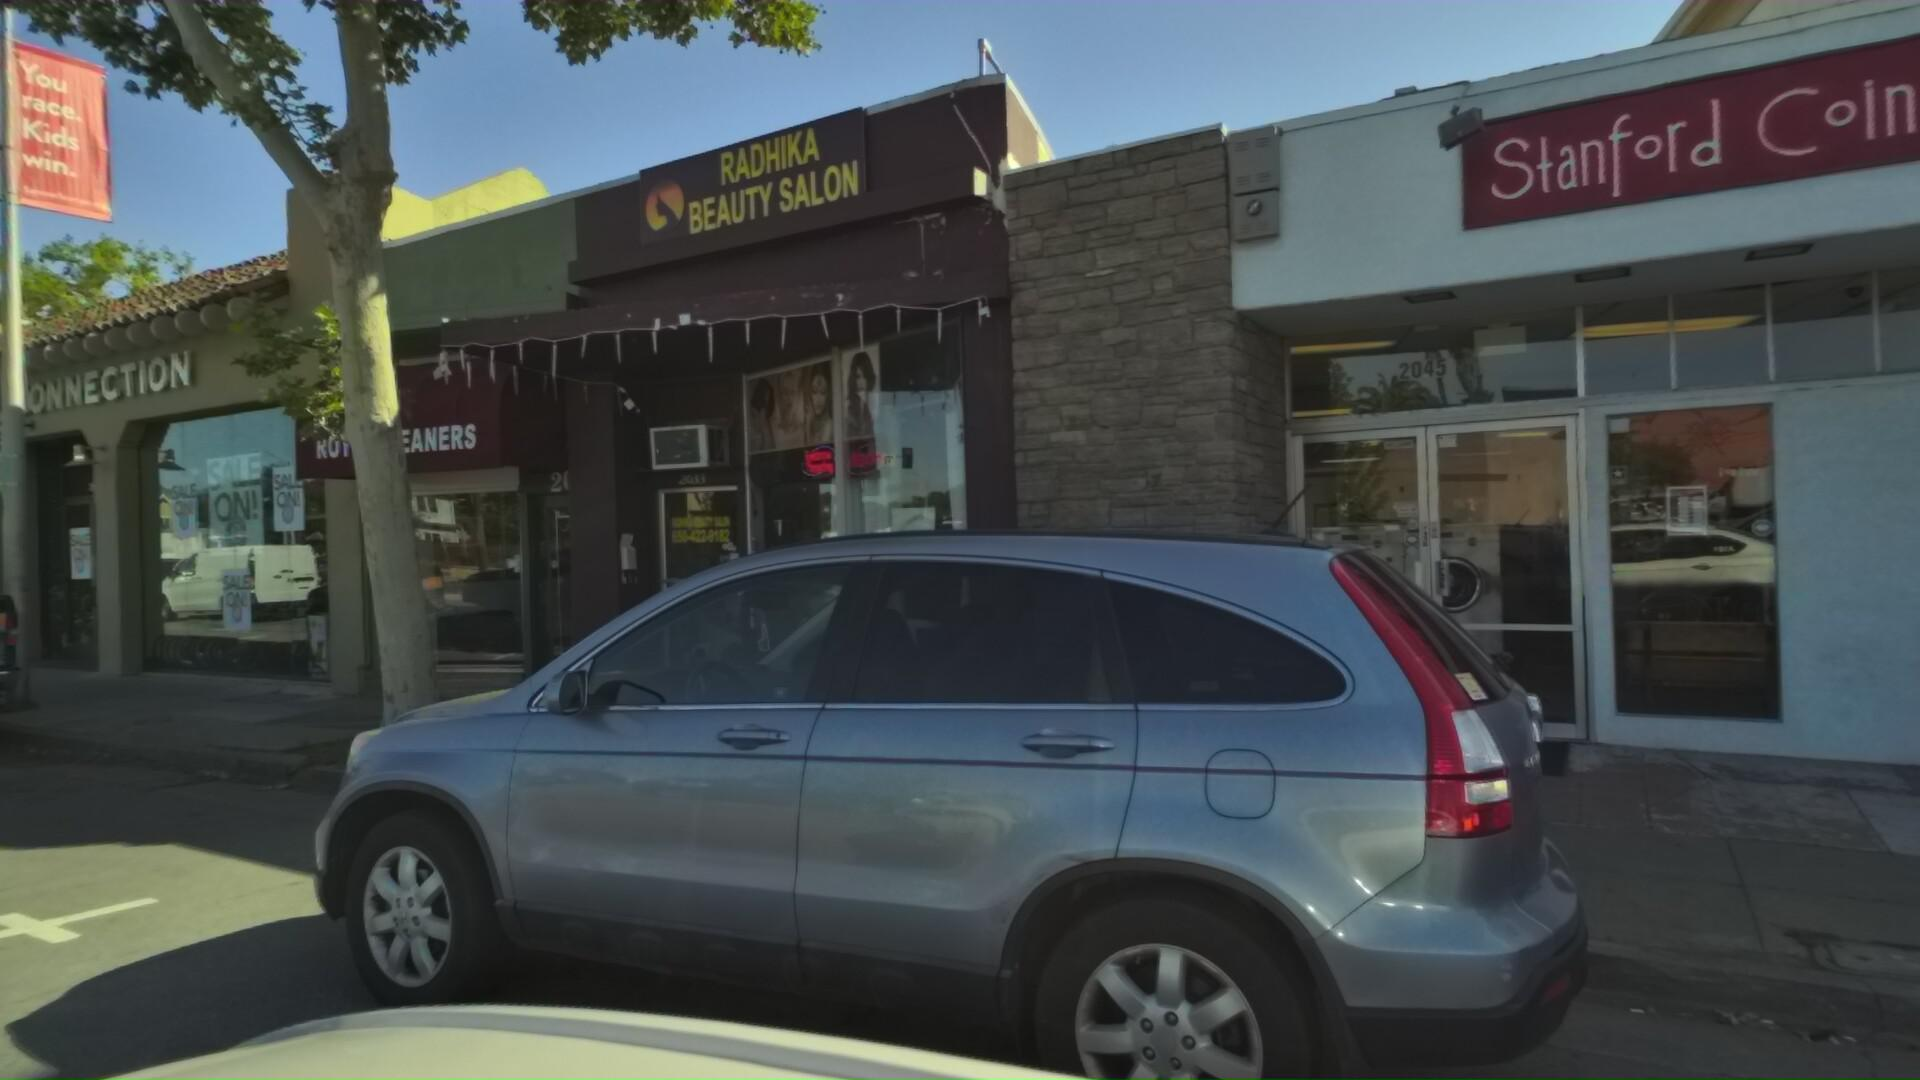car: (156, 409, 1654, 1080), (0, 489, 53, 782)
